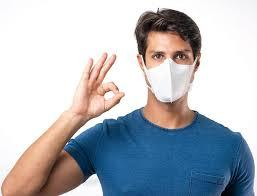mask: (142, 53, 198, 103)
